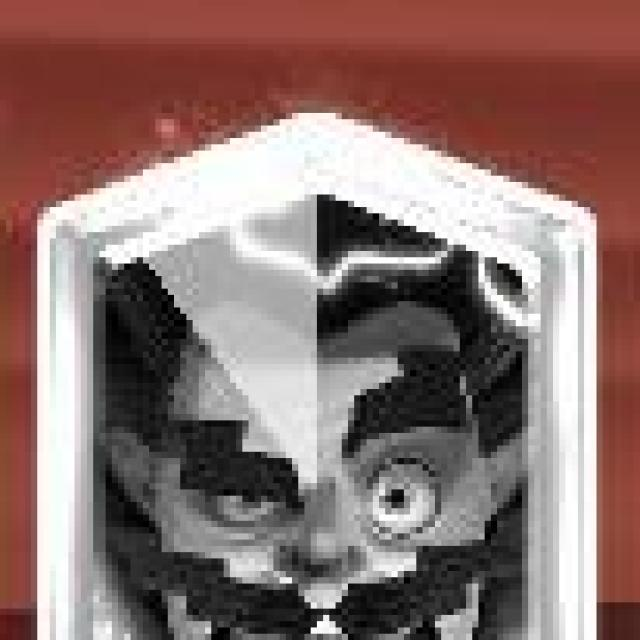Electro_Wizard: (35, 113, 599, 640)
